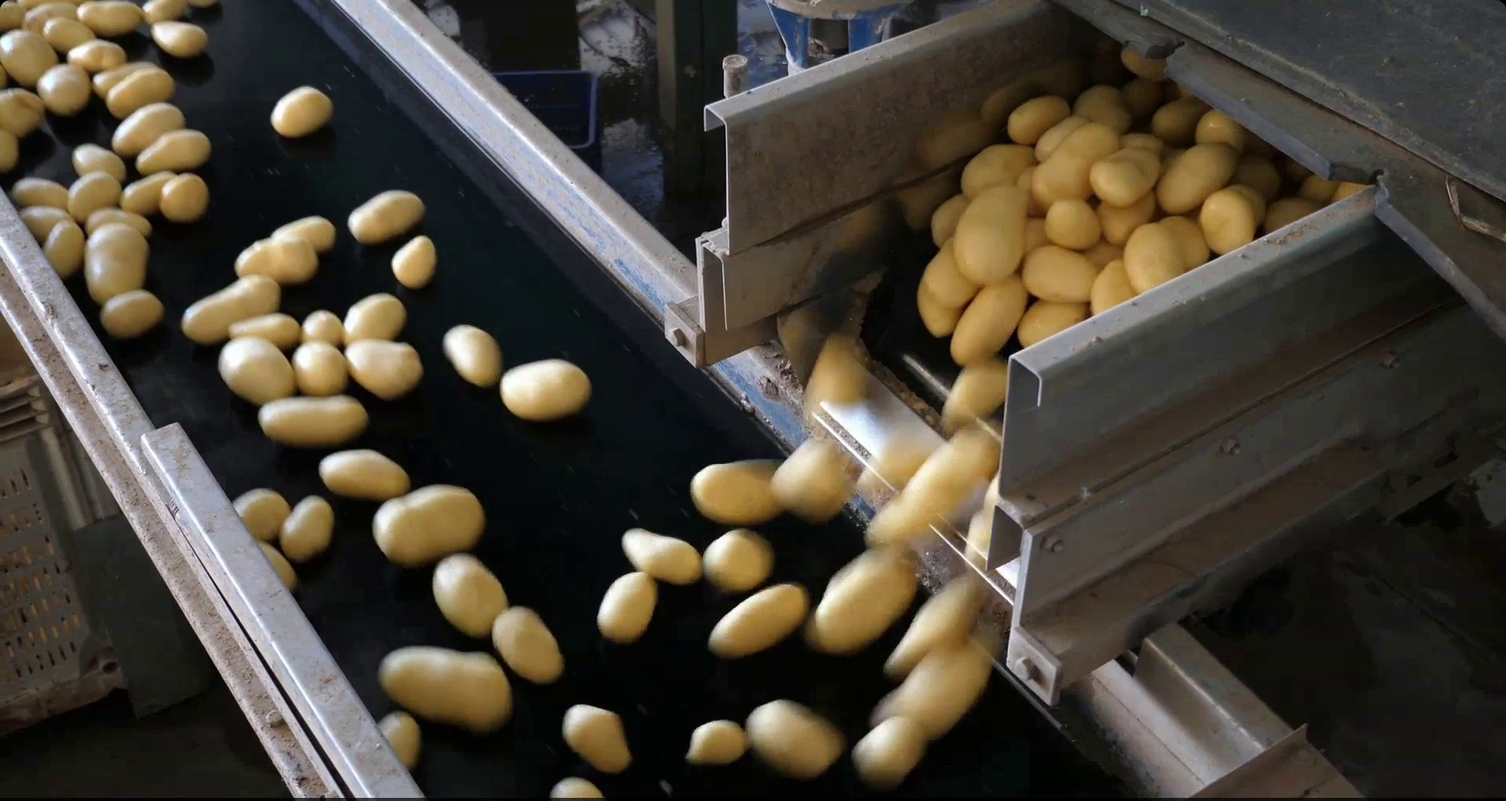potato: (860, 419, 1013, 554), (869, 617, 1009, 749), (796, 540, 925, 657), (878, 571, 995, 680), (373, 643, 514, 732), (362, 479, 491, 567), (948, 175, 1035, 285), (697, 578, 813, 657), (173, 270, 286, 350), (946, 270, 1037, 369), (744, 696, 846, 781), (1029, 117, 1126, 203), (764, 433, 855, 524), (680, 455, 796, 526), (428, 547, 511, 640), (497, 356, 600, 424), (1153, 136, 1242, 214), (254, 393, 373, 449), (211, 333, 300, 407), (847, 712, 930, 791), (933, 347, 1016, 425), (849, 426, 940, 497), (491, 603, 568, 686), (81, 218, 151, 306), (617, 520, 706, 588), (341, 185, 432, 251), (559, 698, 635, 776), (340, 332, 423, 402), (1085, 140, 1167, 209), (696, 526, 777, 595), (958, 136, 1040, 204), (799, 336, 866, 419), (1012, 291, 1096, 357), (1121, 219, 1190, 299), (594, 567, 662, 647), (315, 445, 415, 499), (230, 231, 321, 290), (1020, 241, 1102, 303), (1199, 183, 1261, 264), (107, 96, 187, 158), (440, 320, 505, 393), (275, 490, 338, 565), (964, 472, 1009, 575), (101, 64, 180, 122), (131, 126, 216, 179), (267, 82, 337, 143), (1096, 183, 1160, 248), (1002, 89, 1073, 145), (285, 337, 351, 397), (228, 486, 293, 545), (340, 292, 409, 347), (2, 27, 63, 89), (96, 288, 169, 339), (685, 718, 755, 771), (1155, 210, 1212, 274), (1191, 101, 1257, 156), (908, 274, 962, 340), (1042, 191, 1104, 248), (1032, 109, 1092, 167), (31, 61, 96, 114), (115, 166, 183, 216), (922, 245, 975, 309), (64, 169, 127, 221), (374, 706, 424, 771), (387, 233, 441, 292), (144, 17, 218, 60), (1085, 255, 1135, 318), (157, 170, 213, 226), (40, 216, 86, 284), (1071, 79, 1130, 131), (268, 212, 337, 256), (88, 57, 162, 98), (222, 310, 301, 348), (1147, 95, 1211, 141), (67, 137, 127, 184), (254, 533, 299, 594), (1269, 191, 1327, 237), (85, 205, 157, 241), (1, 85, 49, 139), (926, 191, 967, 252), (75, 2, 146, 37), (5, 173, 71, 210), (17, 205, 78, 245), (540, 770, 617, 801), (56, 41, 130, 72), (1228, 176, 1268, 233), (20, 2, 85, 36), (42, 14, 96, 51), (1119, 43, 1170, 82), (299, 306, 344, 349), (1015, 159, 1044, 215), (1243, 154, 1283, 194), (1119, 126, 1165, 157), (1081, 234, 1123, 266), (1332, 180, 1370, 207), (1303, 169, 1336, 200), (139, 2, 194, 20), (1020, 208, 1042, 250), (2, 125, 21, 172), (3, 1, 23, 29), (1, 61, 9, 93), (188, 1, 223, 8)
